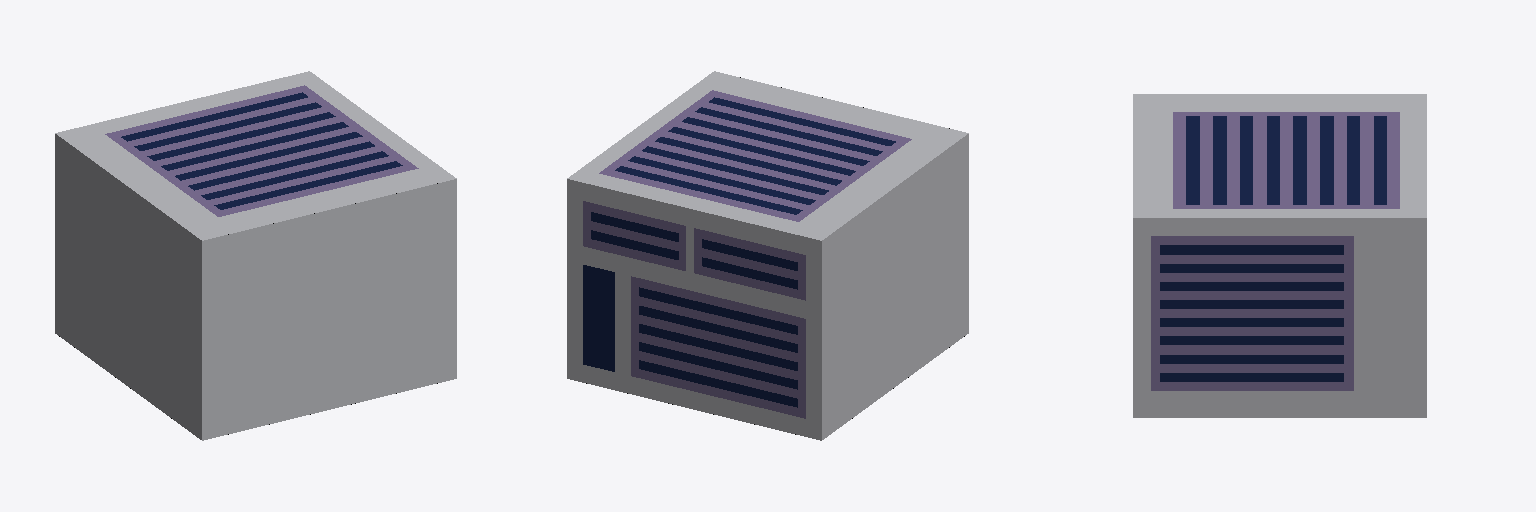
3 renders of one model, left to right at view 1: azimuth 30°, elevation 25°; view 2: azimuth 150°, elevation 25°; view 3: azimuth 270°, elevation 25°, orthographic.
Parts seen in each view (by area): view 1: unnamed_1; view 2: unnamed_1; view 3: unnamed_1.
Boxes of the visible parts, x1,y1,x2,y2 form: unnamed_1: [55, 71, 456, 440]; unnamed_1: [567, 71, 968, 440]; unnamed_1: [1133, 94, 1426, 417].
Size of the model in its own units: 1 by 0.75 by 1.
Materials: 1 (1 with a texture image).